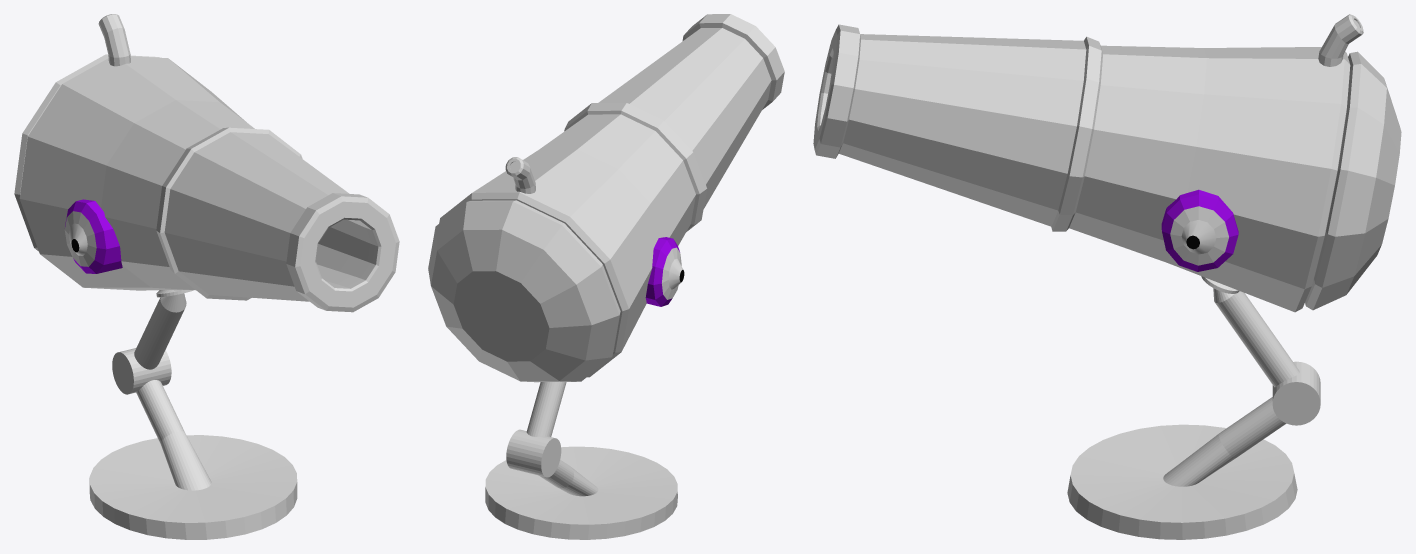
The model's file is cannon with eyes new.fbx.
3 views of the same model, side by side, from view 1: azimuth 30°, elevation 25°; view 2: azimuth 150°, elevation 25°; view 3: azimuth 270°, elevation 25° (orthographic). The views are drawn at different scales.
Visible parts, largest first — view 1: Cylinder.005, Cylinder.003, Cylinder.000, Cylinder, Cylinder.001, Cylinder.002, Cylinder.006; view 2: Cylinder.005, Cylinder.002, Cylinder.003, Cylinder.001, Cylinder.000, Cylinder, Cylinder.006; view 3: Cylinder.005, Cylinder.003, Cylinder.002, Cylinder.000, Cylinder, Cylinder.001, Cylinder.006.
Boxes of the visible parts, x1,y1,x2,y2 form: Cylinder.005: [19, 56, 399, 312]; Cylinder.003: [89, 380, 297, 539]; Cylinder.000: [64, 199, 122, 273]; Cylinder: [134, 290, 194, 369]; Cylinder.001: [112, 348, 171, 394]; Cylinder.002: [14, 54, 159, 251]; Cylinder.006: [98, 14, 130, 66]; Cylinder.005: [439, 14, 784, 377]; Cylinder.002: [428, 200, 620, 382]; Cylinder.003: [485, 446, 677, 539]; Cylinder.001: [506, 429, 561, 477]; Cylinder.000: [645, 237, 684, 306]; Cylinder: [526, 382, 566, 436]; Cylinder.006: [505, 157, 535, 193]; Cylinder.005: [813, 24, 1350, 312]; Cylinder.003: [1067, 397, 1297, 539]; Cylinder.002: [1305, 51, 1401, 310]; Cylinder.000: [1161, 189, 1238, 271]; Cylinder: [1201, 276, 1299, 387]; Cylinder.001: [1272, 361, 1320, 425]; Cylinder.006: [1318, 14, 1363, 66].
Size of the model in its own units: 246 by 473 by 531.
